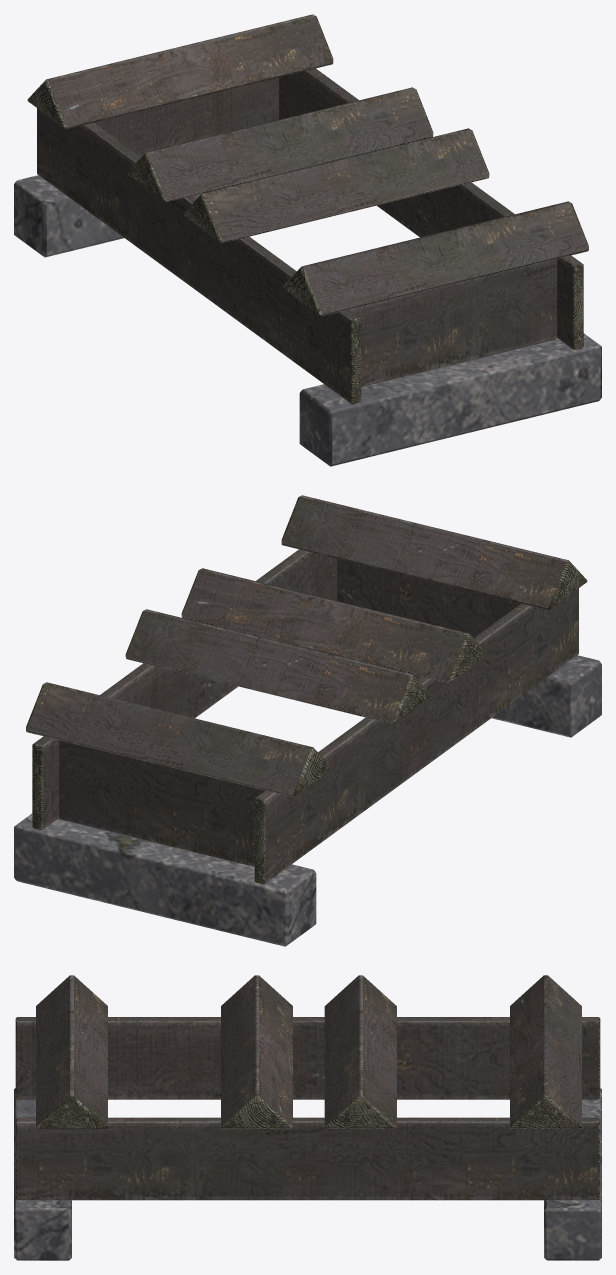
The model's file is SM_WineCaskPalletB.FBX.
3 views of the same model, one above another, from view 1: azimuth 30°, elevation 25°; view 2: azimuth 150°, elevation 25°; view 3: azimuth 270°, elevation 25° (orthographic). The views are drawn at different scales.
Visible parts, largest first — view 1: SM_WineCaskPalletB; view 2: SM_WineCaskPalletB; view 3: SM_WineCaskPalletB.
Boxes of the visible parts, x1,y1,x2,y2 form: SM_WineCaskPalletB: (14,14,601,466); SM_WineCaskPalletB: (14,495,601,946); SM_WineCaskPalletB: (14,975,601,1260).
Size of the model in its own units: 101 by 62.43 by 202.
